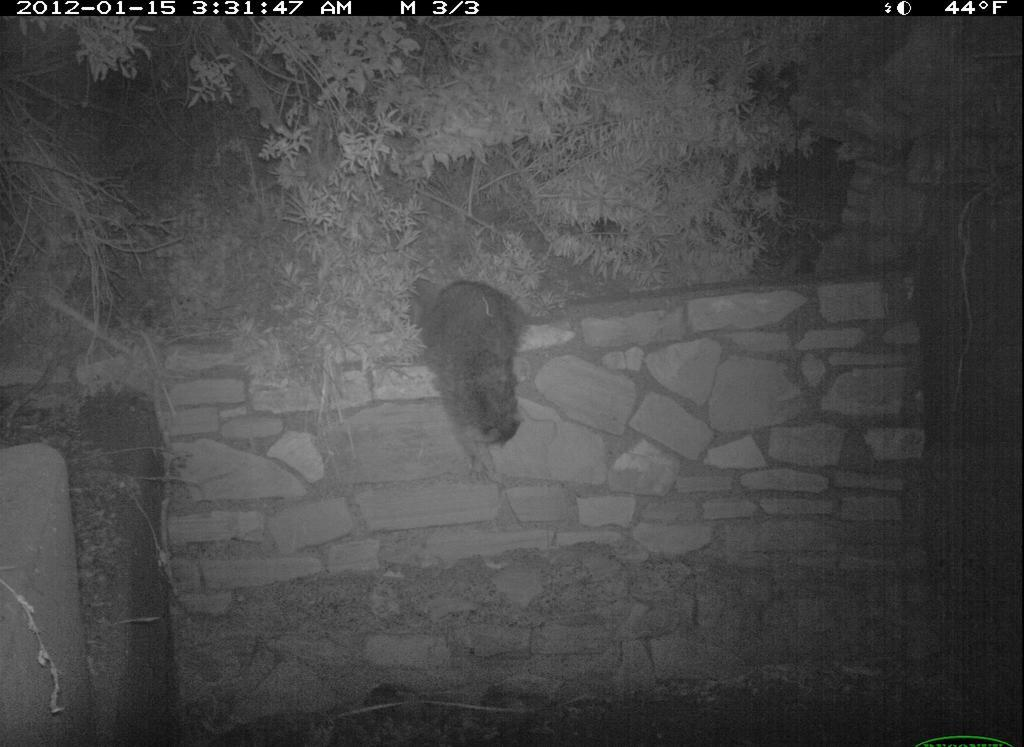raccoon: (388, 254, 548, 473)
